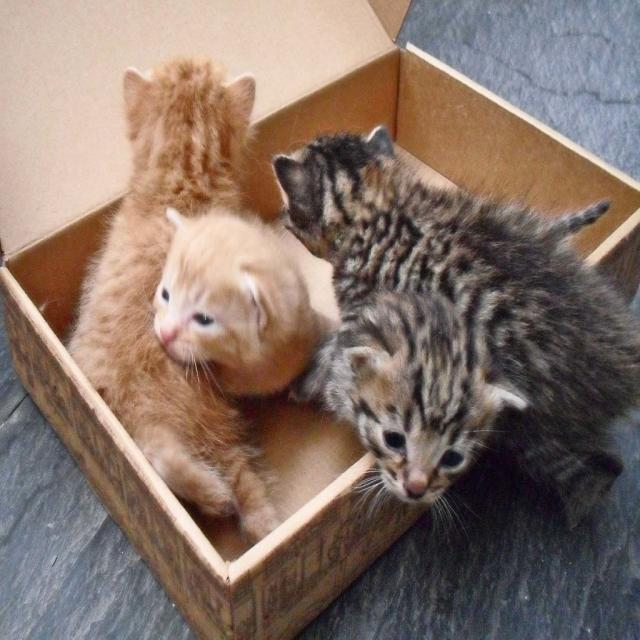Cat: (277, 122, 639, 447), (288, 200, 608, 560), (61, 73, 263, 541), (148, 204, 328, 416)
